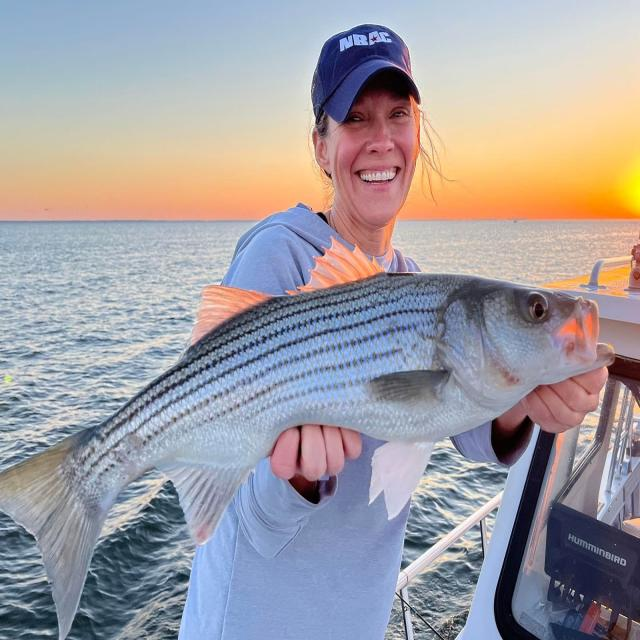Bass - Striped: (0, 221, 253, 470), (69, 471, 195, 638), (396, 221, 638, 283), (402, 440, 507, 566), (410, 532, 482, 637), (0, 513, 58, 638)
